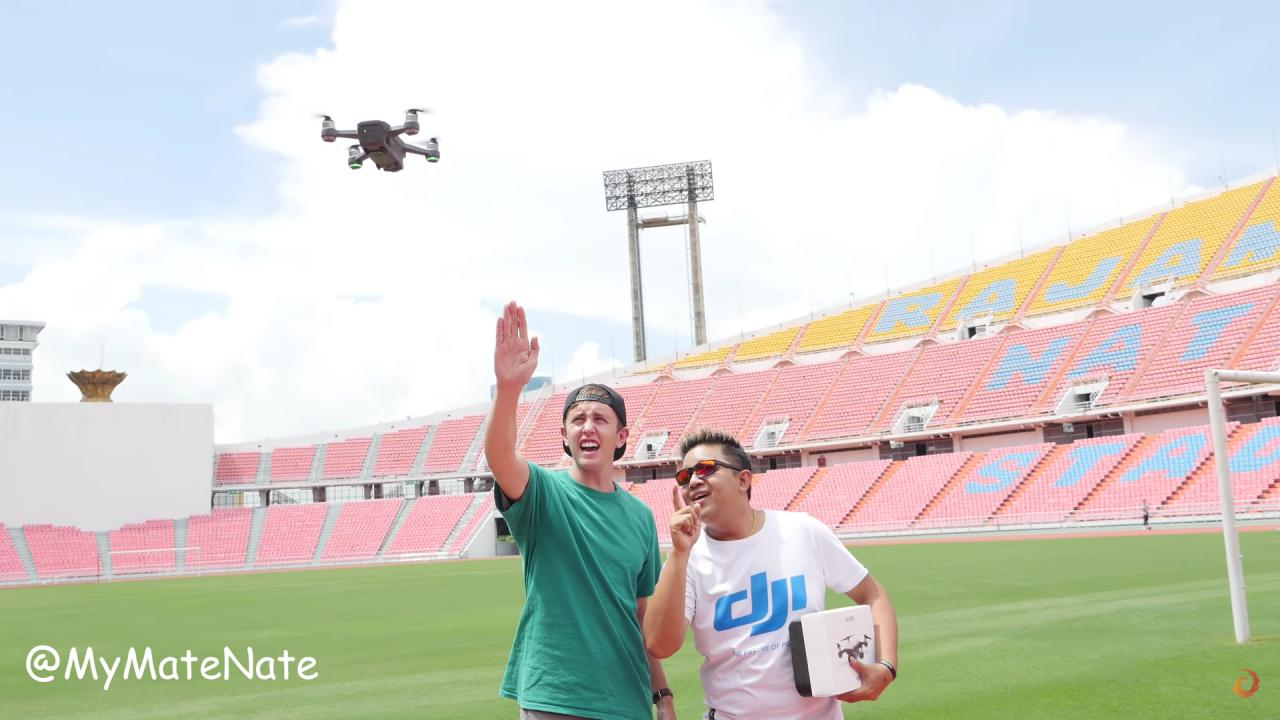Drone: (291, 86, 470, 194)
